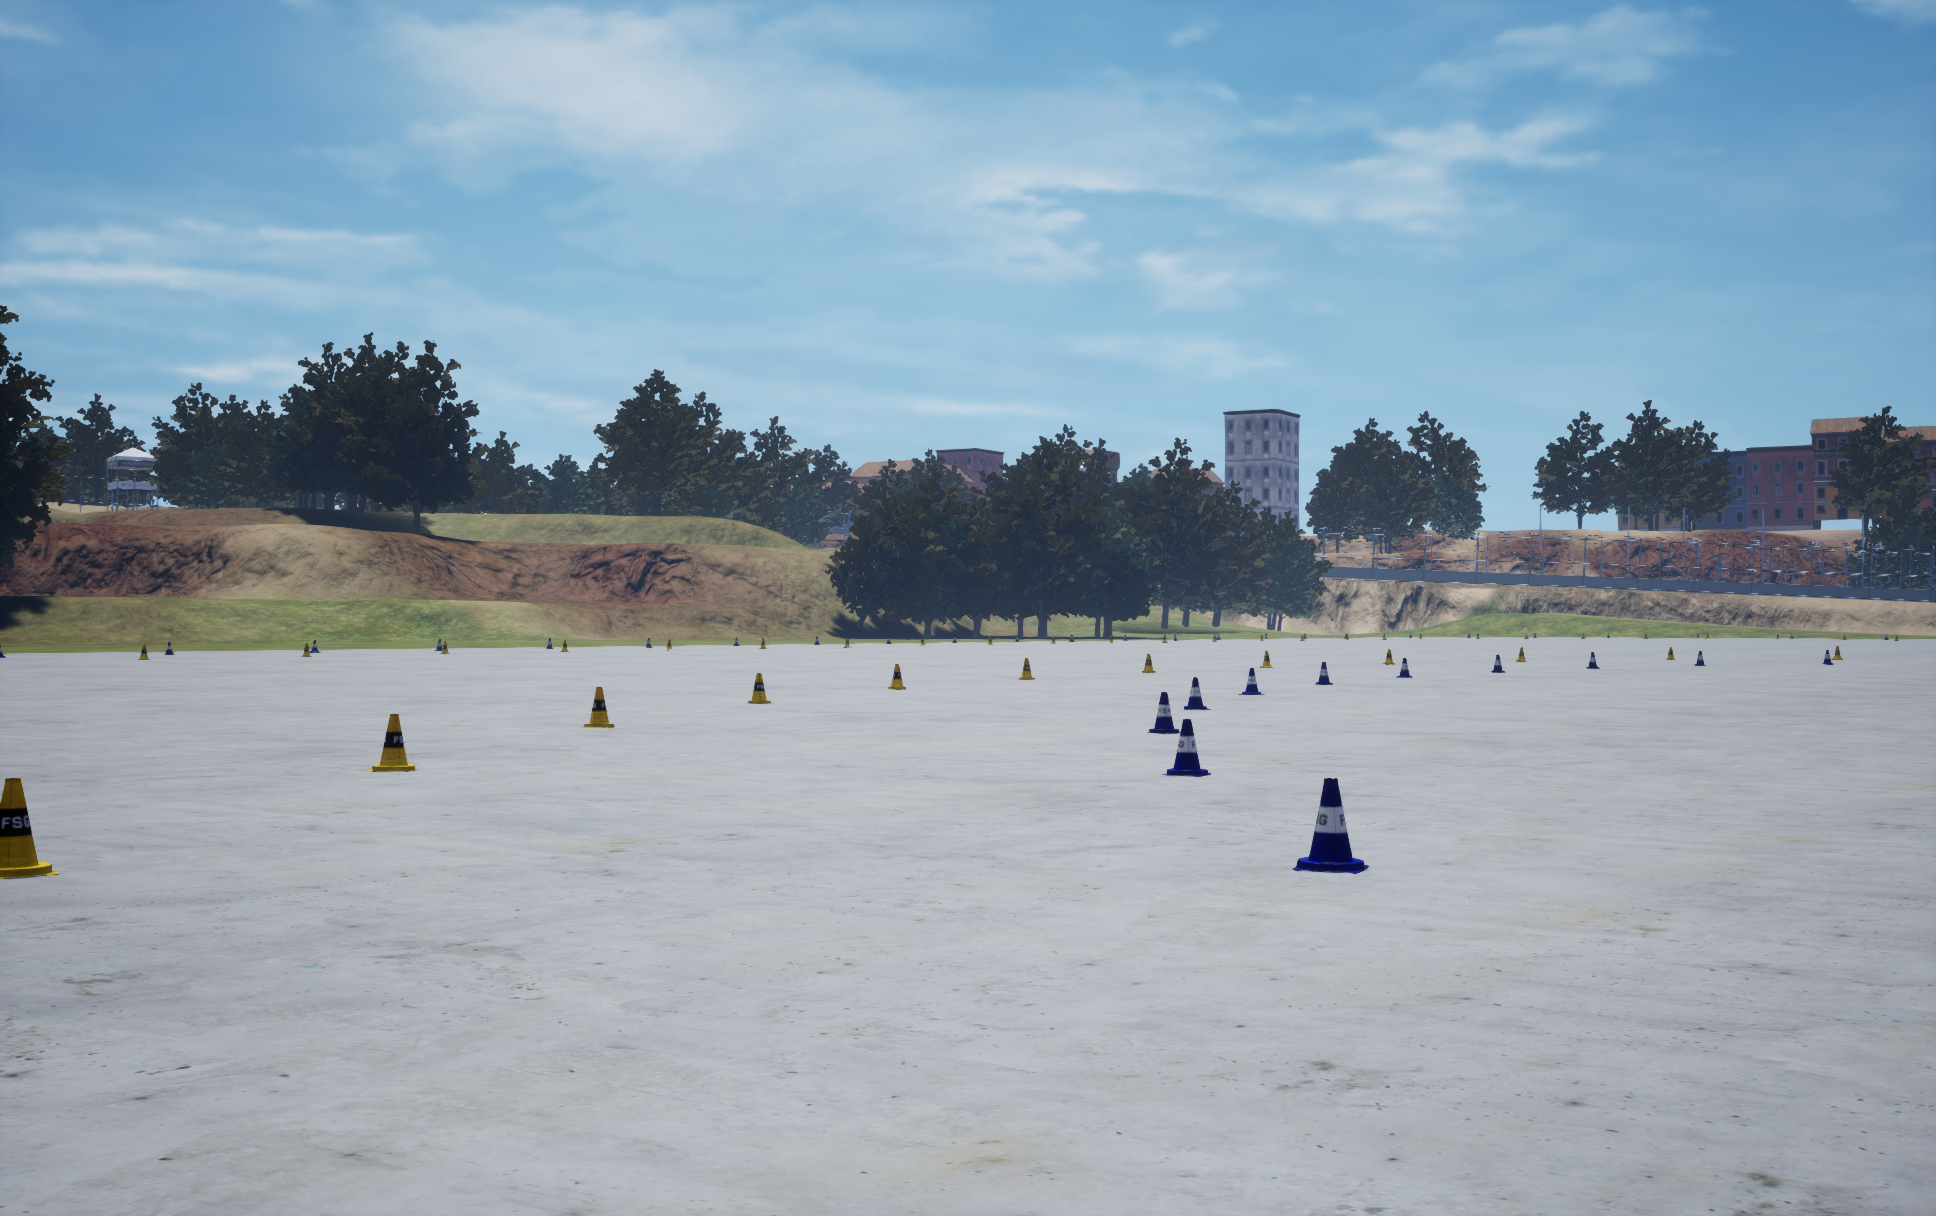blue: (0, 778, 62, 878), (366, 714, 417, 771), (583, 686, 614, 727), (747, 672, 773, 703), (888, 664, 905, 689), (1018, 658, 1034, 679), (1142, 654, 1154, 672)
yellow: (1292, 778, 1369, 873), (1161, 719, 1210, 776), (1147, 692, 1180, 733), (1184, 677, 1210, 709), (1238, 668, 1264, 693), (1315, 663, 1332, 684), (1397, 658, 1412, 677)
